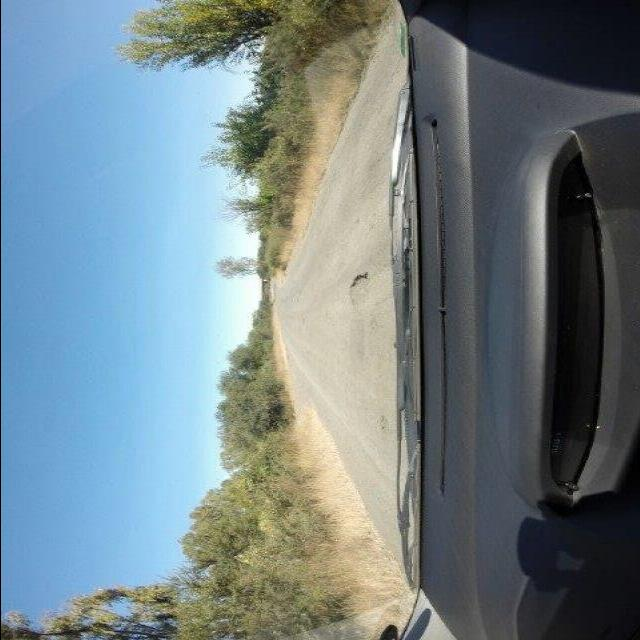lubang: (344, 268, 374, 304), (372, 412, 394, 434)
